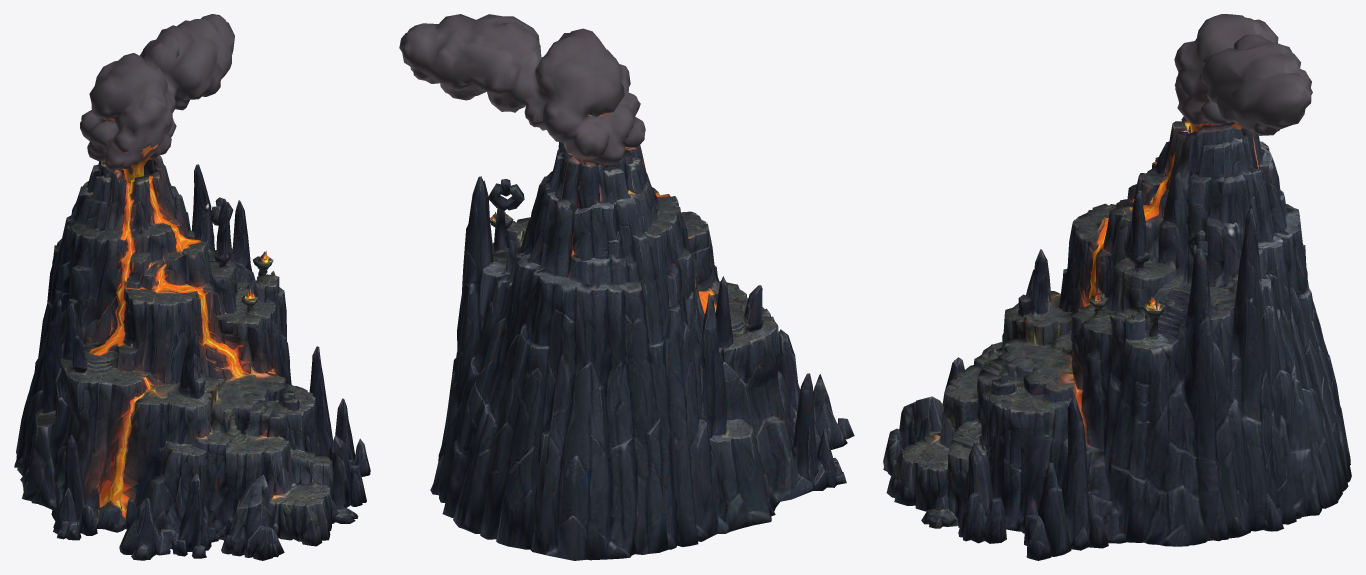
File: volcanic_island.glb
3 renders of one model, left to right at view 1: azimuth 30°, elevation 25°; view 2: azimuth 150°, elevation 25°; view 3: azimuth 270°, elevation 25°, orthographic. The views are drawn at different scales.
Visible parts, largest first — view 1: Model; view 2: Model; view 3: Model.
Boxes of the visible parts, left/top/right/bottom form: Model: left=14, top=14, right=370, bottom=560; Model: left=399, top=14, right=854, bottom=560; Model: left=883, top=14, right=1351, bottom=560.
Size of the model in its own units: 64.4 by 80 by 72.94.
Materials: 1 (1 with a texture image).
